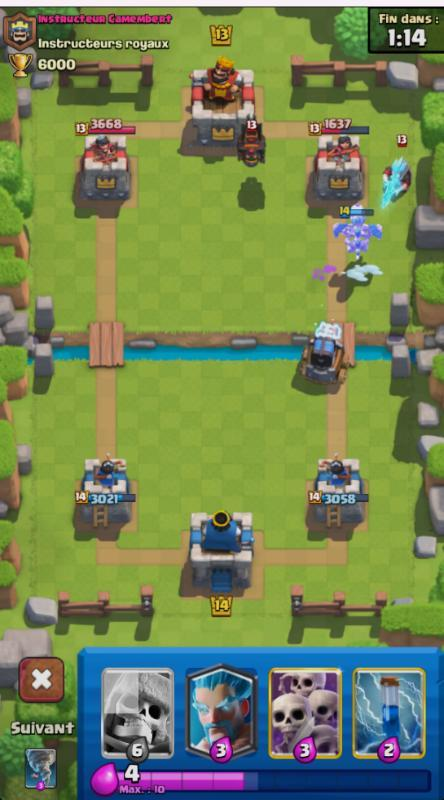enemy_ice_wizard: (375, 135, 418, 204)
enemy_lava_hound: (230, 119, 277, 211)
player_skeleton_dragon: (329, 199, 384, 263)
player_sparky: (288, 314, 358, 391)
